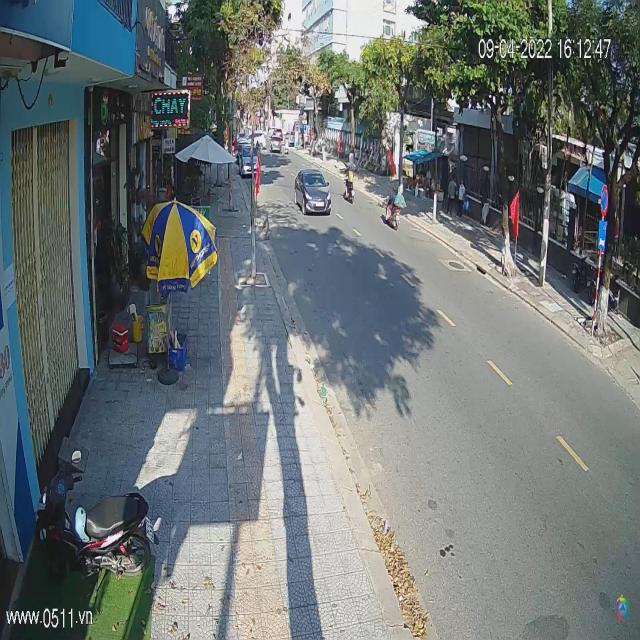car: (294, 169, 332, 217)
motorcycle: (383, 196, 400, 229), (343, 177, 356, 206)
